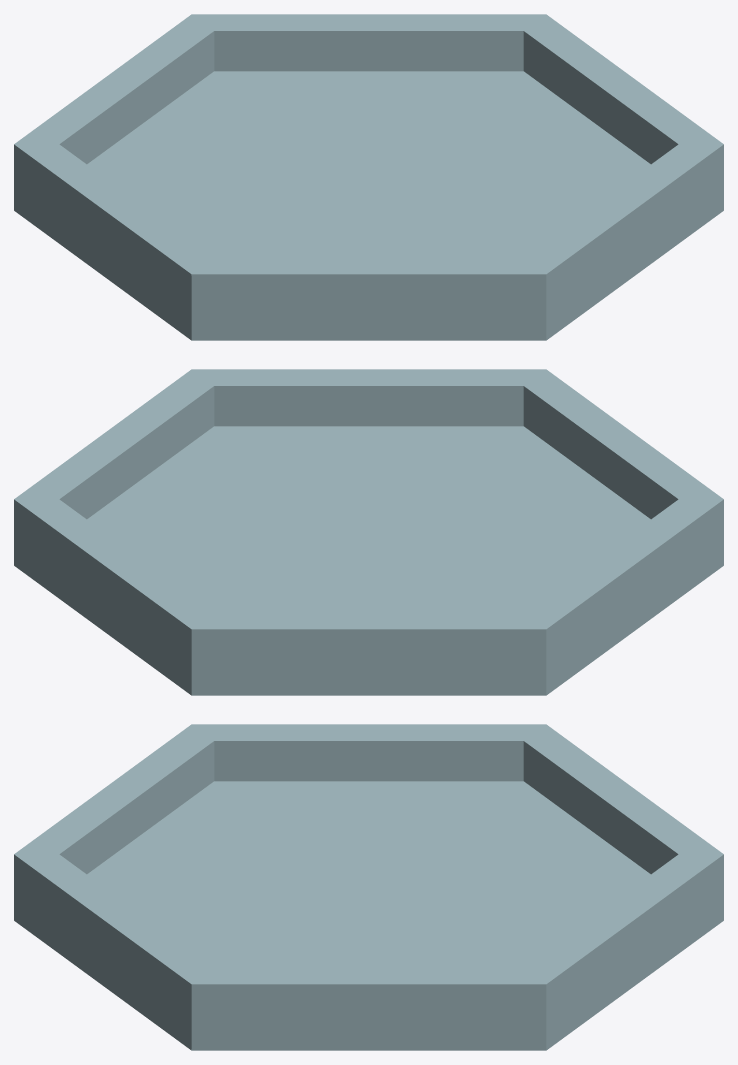
The model's file is Plate.fbx.
3 views of the same model, one above another, from view 1: azimuth 30°, elevation 25°; view 2: azimuth 150°, elevation 25°; view 3: azimuth 270°, elevation 25° (orthographic).
Parts seen in each view (by area): view 1: Plate; view 2: Plate; view 3: Plate.
Boxes of the visible parts, x1,y1,x2,y2 form: Plate: (14,14,723,340); Plate: (14,369,723,695); Plate: (14,724,723,1050).
Bounding box in the file's own units: 111 × 13.22 × 128.
